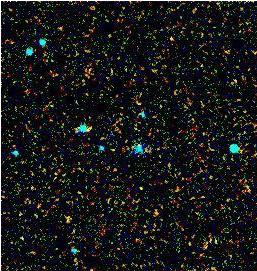star: (126, 172, 156, 202)
